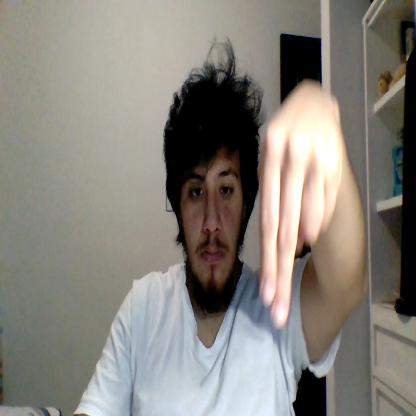N: (259, 80, 342, 329)
